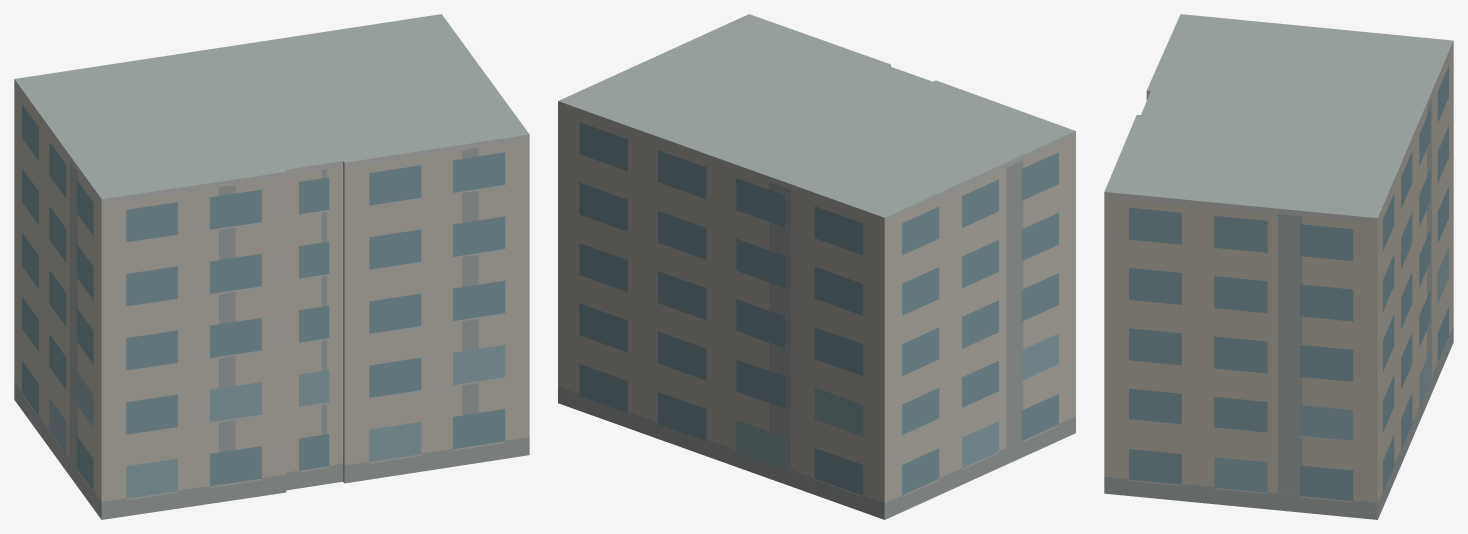
File: survey-upis-32894237.glb
3 views of the same model, side by side, from view 1: azimuth 30°, elevation 25°; view 2: azimuth 150°, elevation 25°; view 3: azimuth 270°, elevation 25° (orthographic). The views are drawn at different scales.
Visible parts, largest first — view 1: survey-upis-32894237.tmp; view 2: survey-upis-32894237.tmp; view 3: survey-upis-32894237.tmp.
Boxes of the visible parts, x1=… form: survey-upis-32894237.tmp: x1=14, y1=14, x2=529, y2=519; survey-upis-32894237.tmp: x1=558, y1=14, x2=1075, y2=519; survey-upis-32894237.tmp: x1=1104, y1=14, x2=1453, y2=519.
Size of the model in its own units: 19.9 by 13.7 by 14.39.
